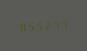eight: (17, 20, 24, 31)
five: (25, 20, 32, 31), (34, 20, 41, 31)
seven: (50, 19, 57, 30), (58, 19, 65, 30)
two: (42, 20, 49, 30)
